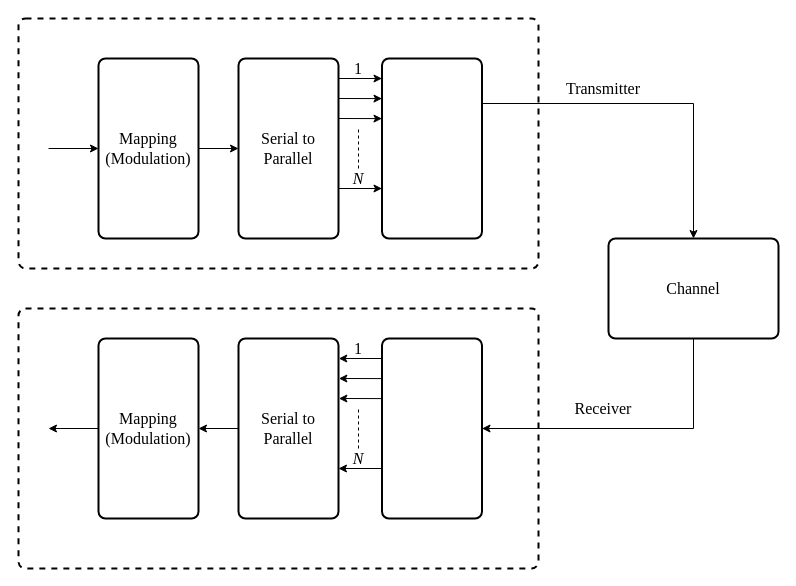
Some shapes in this 796 by 586 pixel diagram are drawn without their labels. The centre of each missing label's shape, as x and y in pixels:
"DWT" belongs at point 431,428.
"Inverse DWT" belongs at point 431,148.
